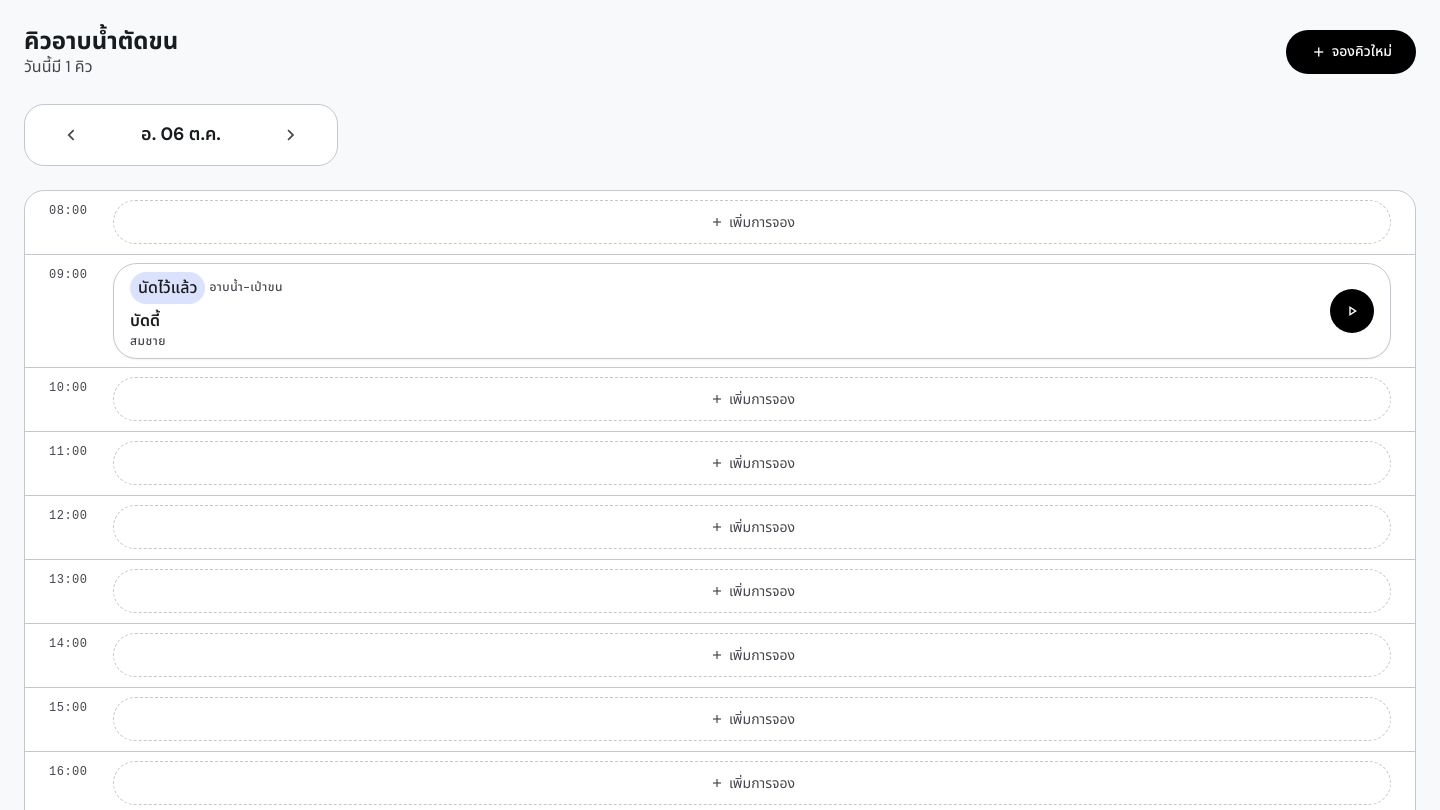
ClinicGrooming — Thai i18n (I18N-4) › (a) renders key Thai strings inside the booking modal
The image size is (1440, 810).
Click the button "จองคิวใหม่". click: (1351, 52)
box: x1=1286 y1=30 x2=1416 y2=74
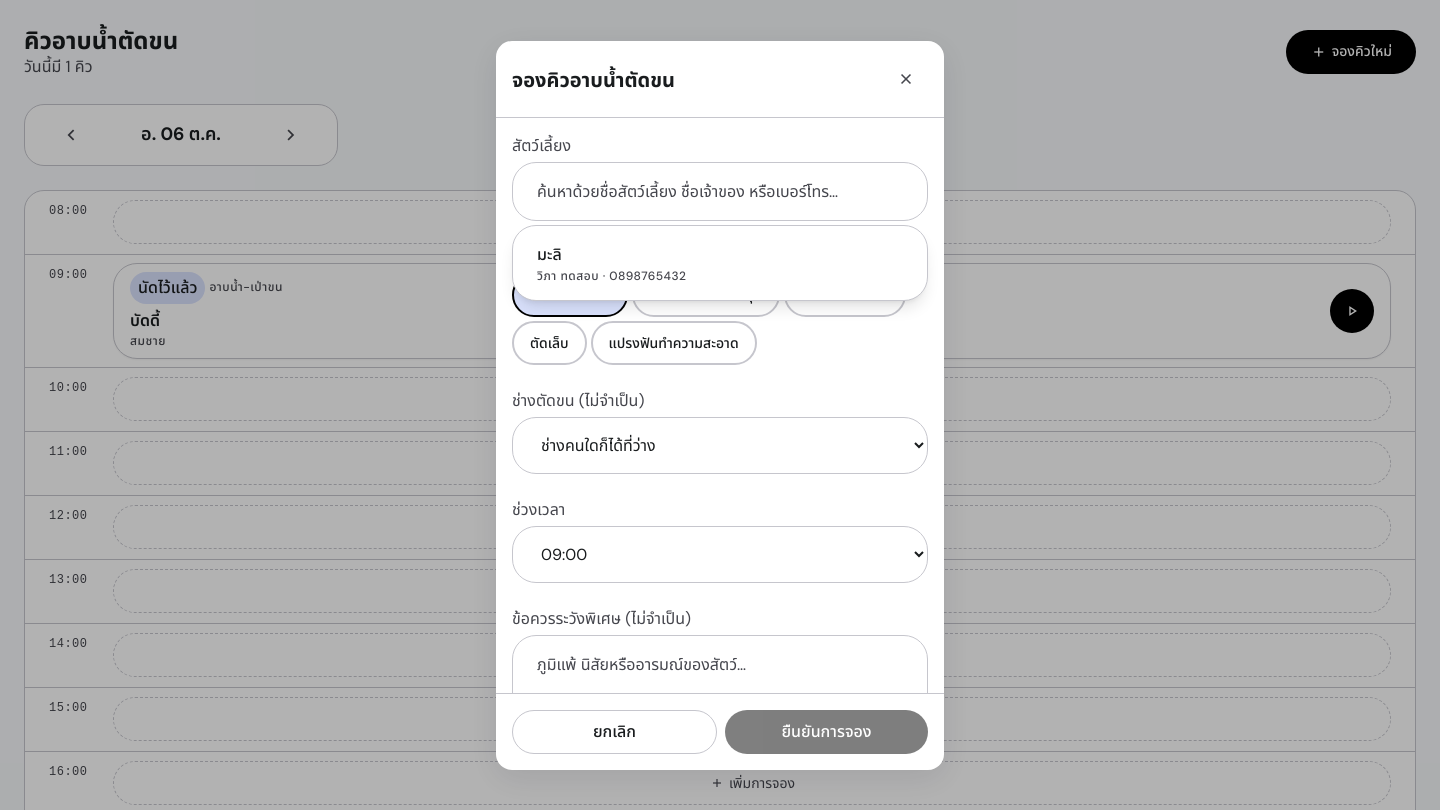
Result: the heading "จองคิวอาบน้ำตัดขน" is shown at x1=512 y1=66 x2=675 y2=92
Result: the text "สัตว์เลี้ยง" is shown at x1=512 y1=134 x2=571 y2=156
Result: the field with placeholder "ค้นหาด้วยชื่อสัตว์เลี้ยง ชื่อเจ้าของ หรือเบอร์โทร…" is shown at x1=512 y1=162 x2=928 y2=221
